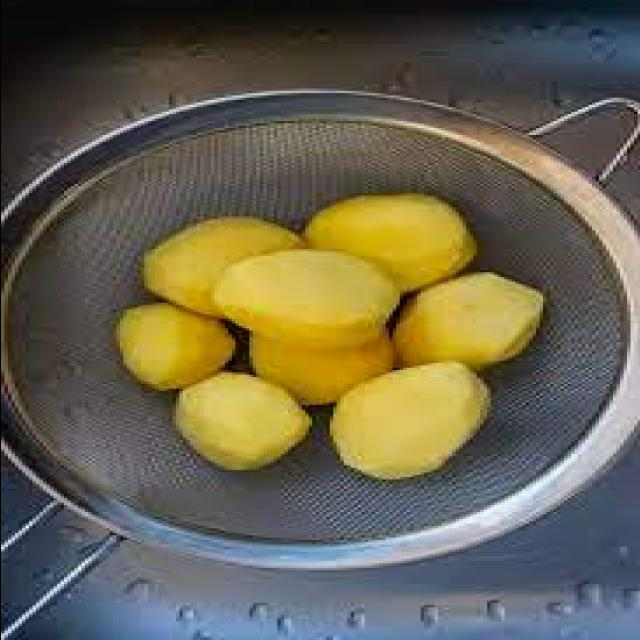kentang rebus: (329, 361, 490, 482), (213, 249, 402, 351), (304, 191, 479, 289), (143, 216, 311, 314), (388, 272, 549, 370), (175, 370, 311, 472), (115, 303, 245, 391), (252, 333, 392, 405)
